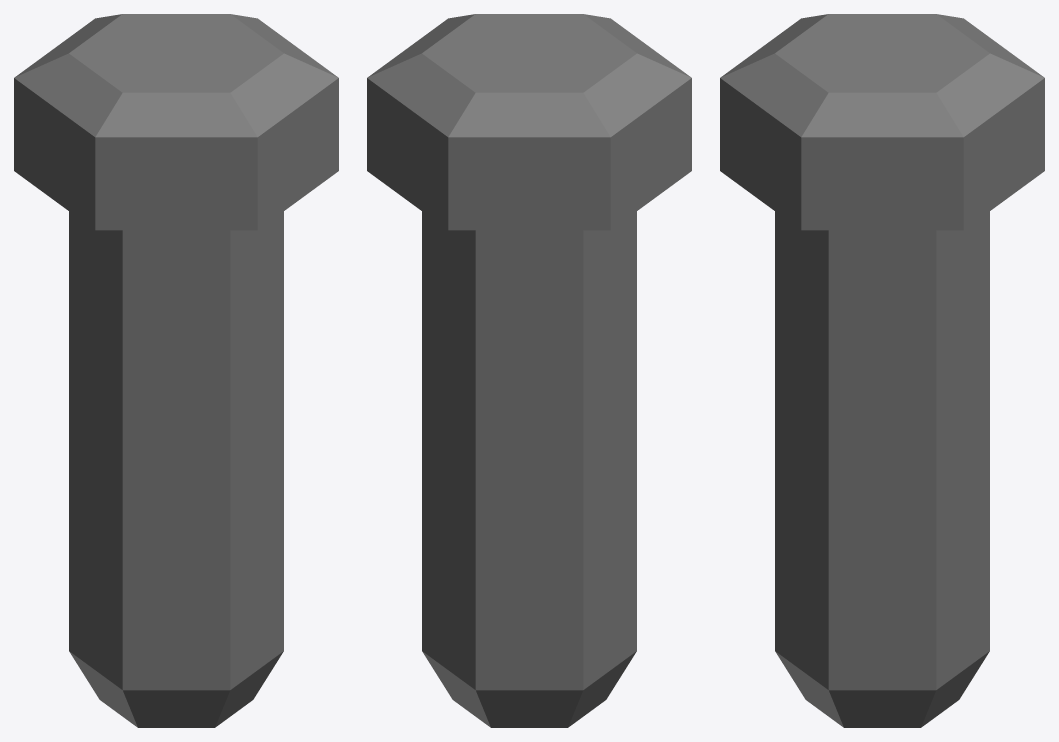
The model's file is Bolt.fbx.
3 views of the same model, side by side, from view 1: azimuth 30°, elevation 25°; view 2: azimuth 150°, elevation 25°; view 3: azimuth 270°, elevation 25° (orthographic).
Parts seen in each view (by area): view 1: Bolt; view 2: Bolt; view 3: Bolt.
Boxes of the visible parts, bbox=[...] form: Bolt: bbox=[14, 14, 338, 727]; Bolt: bbox=[367, 14, 691, 727]; Bolt: bbox=[720, 14, 1044, 727].
Bounding box in the file's own units: 2.87 × 7.26 × 3.31.
